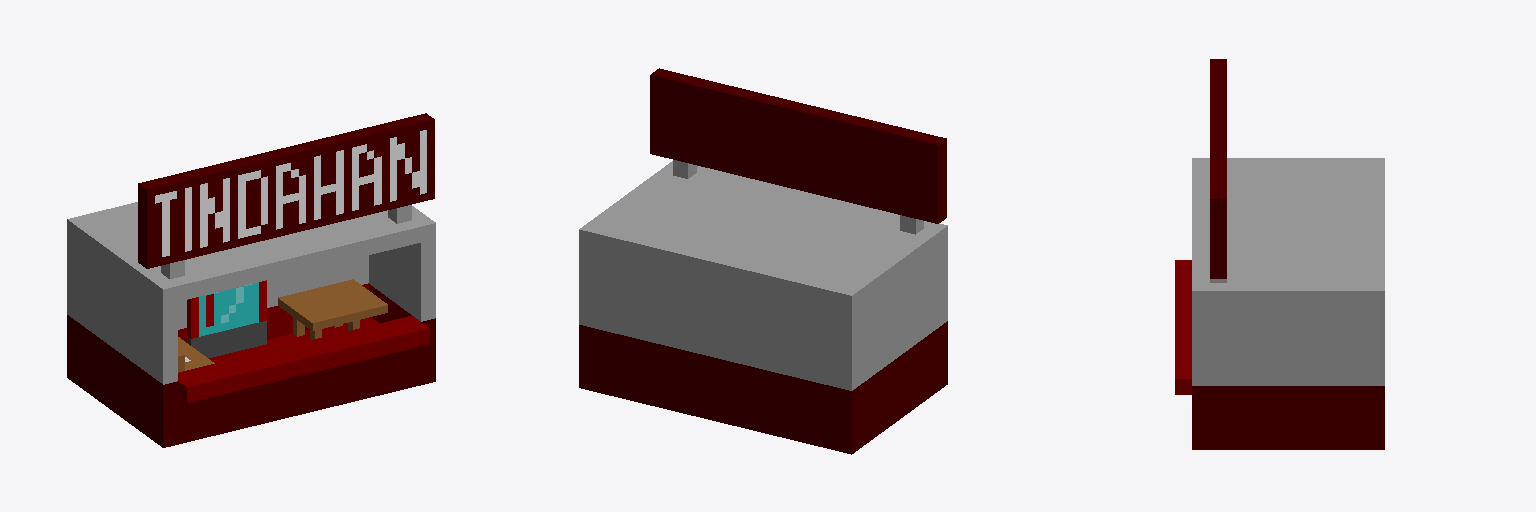
The picture shows the model from 3 angles: view 1: azimuth 30°, elevation 25°; view 2: azimuth 150°, elevation 25°; view 3: azimuth 270°, elevation 25°; orthographic projection.
Parts seen in each view (by area): view 1: object 1; view 2: object 1; view 3: object 1.
Part boxes in pixels (left/top/right/bottom): object 1: left=67, top=113, right=435, bottom=447; object 1: left=579, top=68, right=947, bottom=454; object 1: left=1175, top=59, right=1384, bottom=449.
Size of the model in its own units: 3.8 by 3.2 by 2.4.
1 materials, 1 textured.